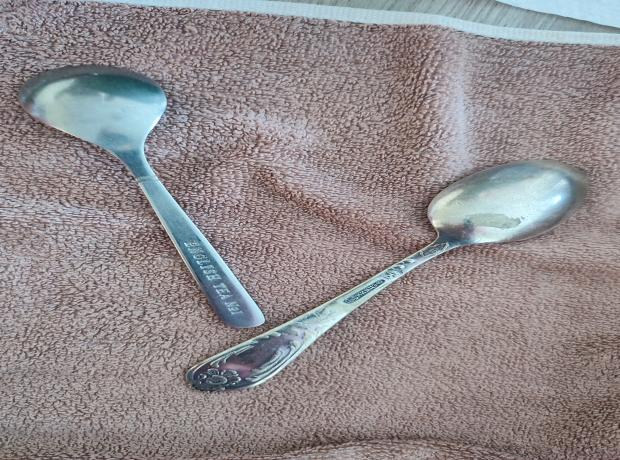metal: (178, 158, 593, 395), (14, 65, 267, 331)
